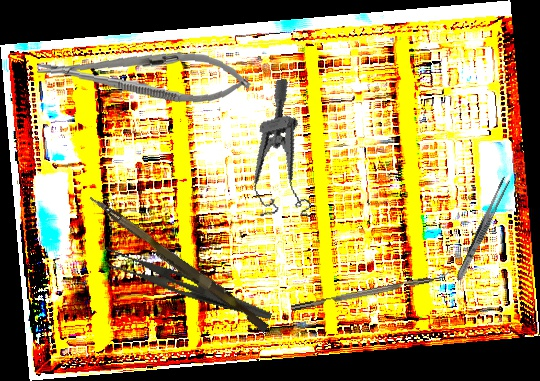Chopper: (289, 265, 455, 312)
Dressing Forceps: (99, 245, 278, 321), (453, 175, 512, 283)
Needle Holder: (35, 41, 253, 108)
Pusher: (83, 194, 273, 333)
Speculum: (227, 77, 323, 230)
